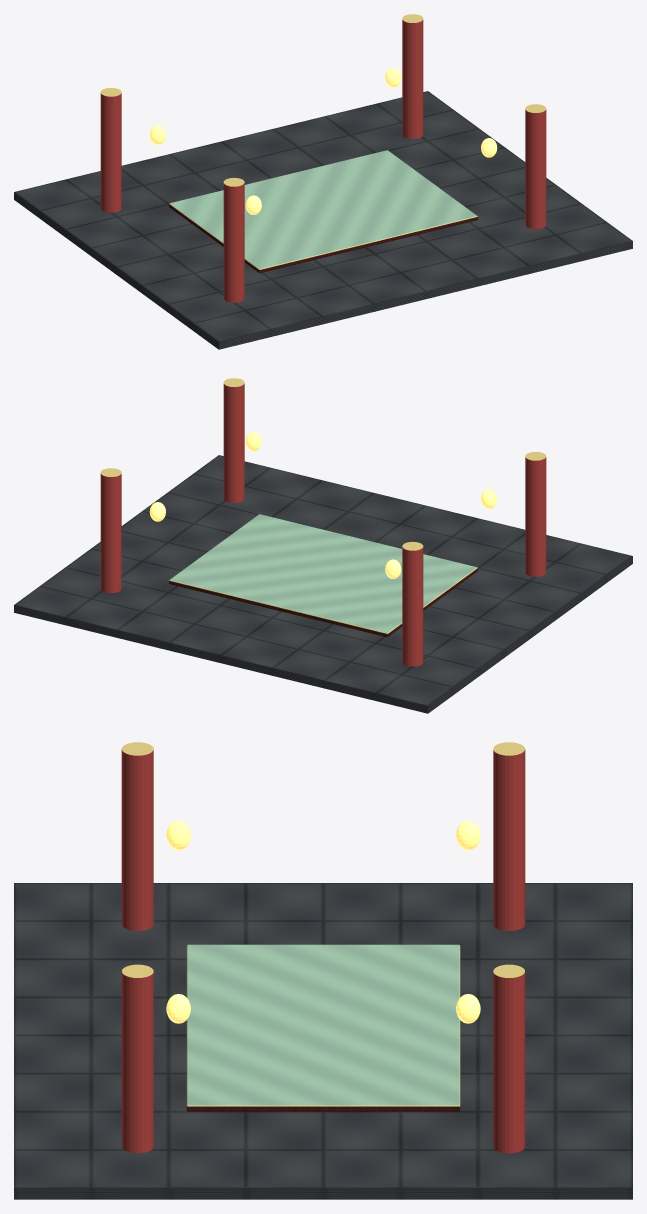
The model's file is temple_environment.glb.
The picture shows the model from 3 angles, top to bottom: view 1: azimuth 30°, elevation 25°; view 2: azimuth 150°, elevation 25°; view 3: azimuth 270°, elevation 25°; orthographic projection. The views are drawn at different scales.
Visible parts, largest first — view 1: Temple_Stone_Pavement, Low_Rosewood_Jade_Table, Temple_Crimson_Pillar_2, Temple_Crimson_Pillar_4, Temple_Crimson_Pillar_1, Temple_Crimson_Pillar_3; view 2: Temple_Stone_Pavement, Low_Rosewood_Jade_Table, Temple_Crimson_Pillar_2, Temple_Crimson_Pillar_4, Temple_Crimson_Pillar_3, Temple_Crimson_Pillar_1; view 3: Temple_Stone_Pavement, Low_Rosewood_Jade_Table, Temple_Crimson_Pillar_2, Temple_Crimson_Pillar_4, Temple_Crimson_Pillar_1, Temple_Crimson_Pillar_3.
Boxes of the visible parts, x1,y1,x2,y2 form: Temple_Stone_Pavement: (14, 91, 632, 349); Low_Rosewood_Jade_Table: (169, 150, 477, 273); Temple_Crimson_Pillar_2: (525, 104, 546, 229); Temple_Crimson_Pillar_4: (402, 14, 423, 139); Temple_Crimson_Pillar_1: (223, 177, 244, 302); Temple_Crimson_Pillar_3: (100, 87, 121, 212); Temple_Stone_Pavement: (14, 455, 632, 713); Low_Rosewood_Jade_Table: (169, 514, 477, 637); Temple_Crimson_Pillar_2: (223, 378, 244, 503); Temple_Crimson_Pillar_4: (100, 468, 121, 593); Temple_Crimson_Pillar_3: (402, 541, 423, 666); Temple_Crimson_Pillar_1: (525, 451, 546, 576); Temple_Stone_Pavement: (14, 883, 632, 1199); Low_Rosewood_Jade_Table: (186, 944, 460, 1111); Temple_Crimson_Pillar_2: (121, 964, 153, 1153); Temple_Crimson_Pillar_4: (493, 964, 525, 1153); Temple_Crimson_Pillar_1: (121, 742, 153, 930); Temple_Crimson_Pillar_3: (493, 742, 525, 930).
Bounding box in the file's own units: 28 × 8 × 24.
Materials: 6 (3 with a texture image).
